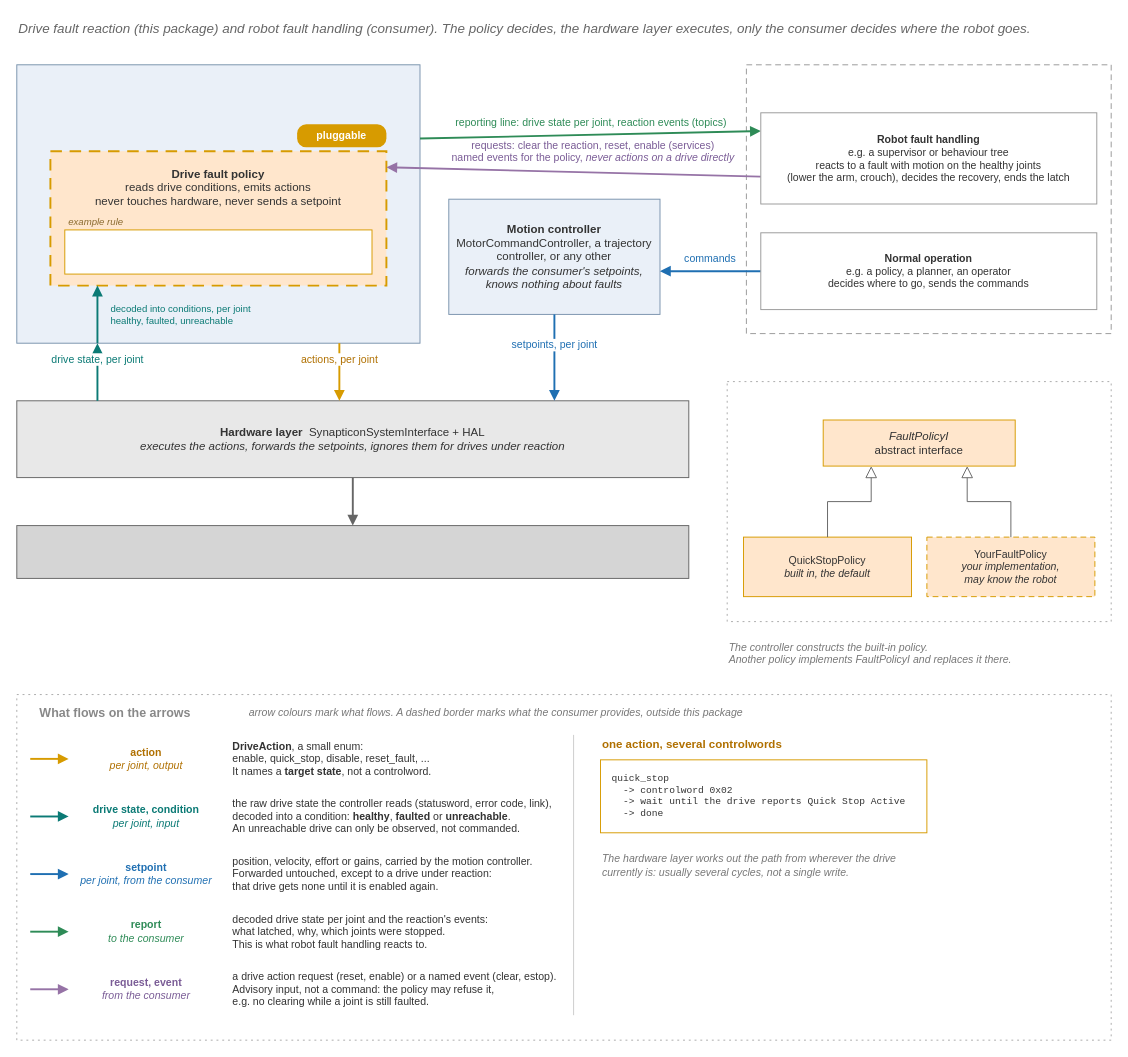
The diagram is 1128 pixels wide and 1057 high, and some of its shapes have lost their labels. The box of each missing label's shape, as (x1, y1, x2, y2) in pixels:
Consumer the only one that decides where the robot goes: (745, 64, 1111, 334)
DriveController the drive fault reaction: (16, 64, 420, 343)
EtherCAT motor drives (one per joint): (16, 525, 689, 578)
if any joint is not healthy -> quick_stop on all joints: (64, 229, 372, 274)
Write your own drive fault policy: (726, 381, 1111, 622)
